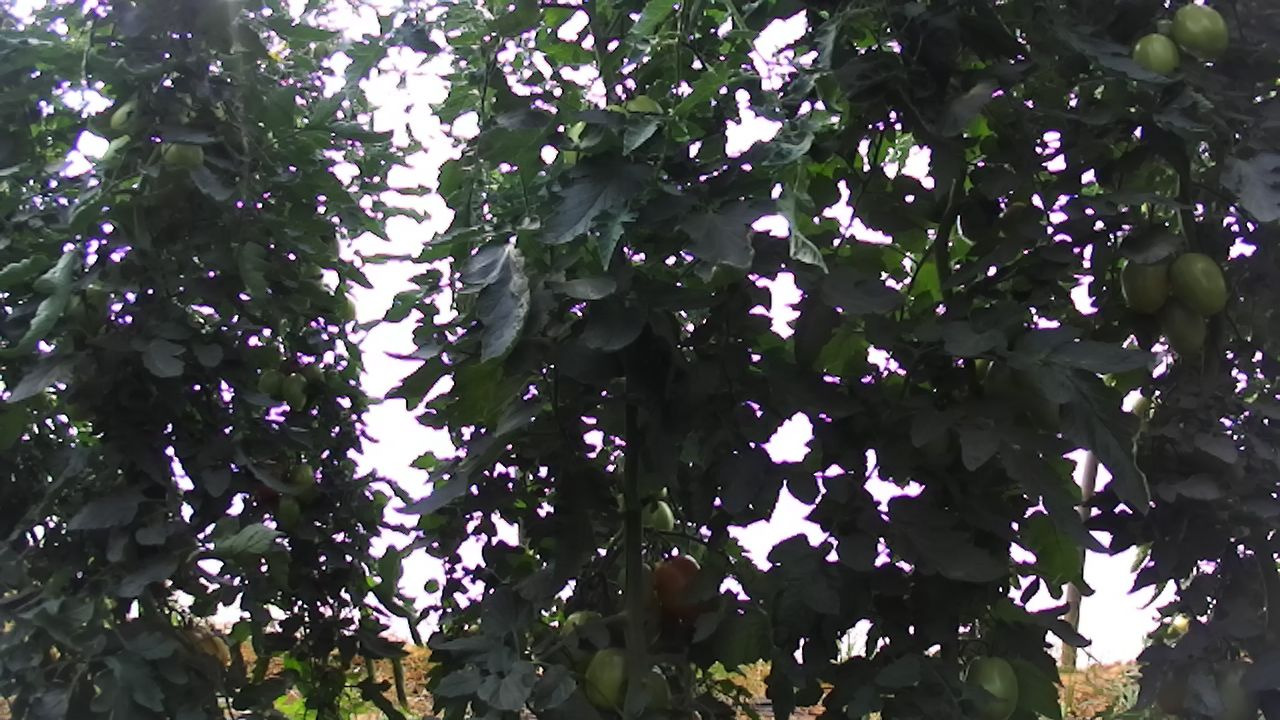tomato: (1163, 248, 1230, 318), (960, 650, 1022, 720), (580, 642, 635, 716), (1169, 1, 1233, 63), (1118, 251, 1173, 317), (1158, 295, 1209, 358), (1130, 31, 1183, 80), (279, 366, 312, 414)
